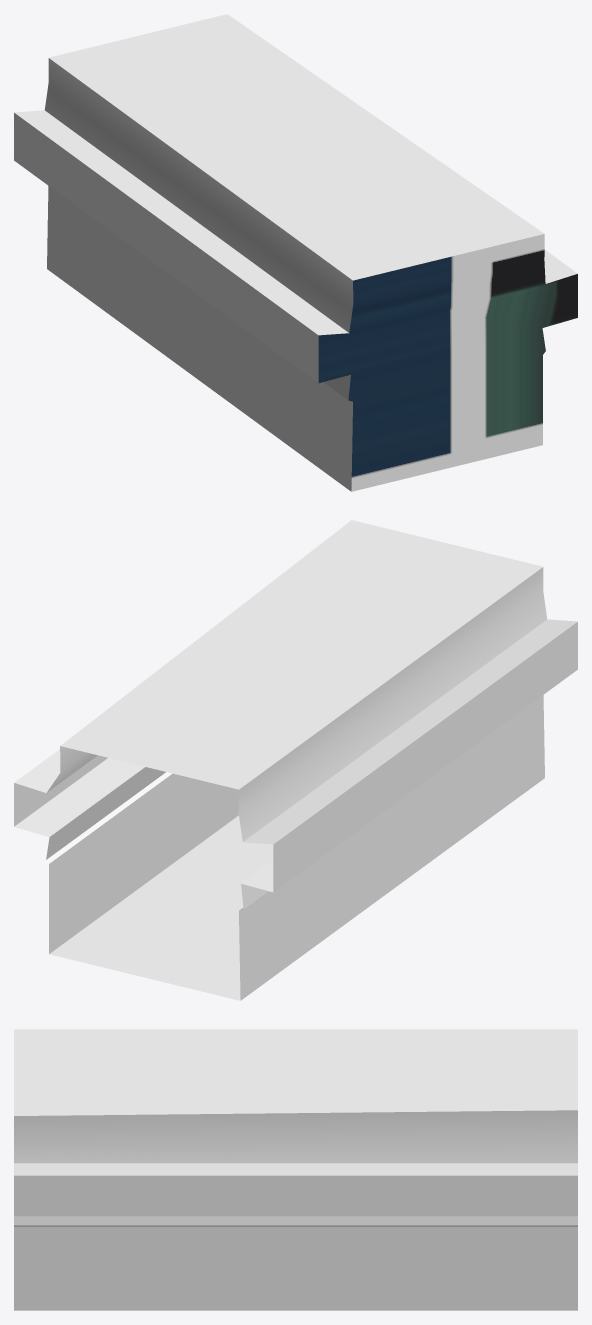
The model's file is Columna_01.fbx.
3 views of the same model, one above another, from view 1: azimuth 30°, elevation 25°; view 2: azimuth 150°, elevation 25°; view 3: azimuth 270°, elevation 25° (orthographic). The views are drawn at different scales.
Parts seen in each view (by area): view 1: Columna_01; view 2: Columna_01; view 3: Columna_01.
Boxes of the visible parts, box(x1,y1,x2,y2) form: Columna_01: box(14, 14, 577, 491); Columna_01: box(14, 520, 577, 1000); Columna_01: box(14, 1029, 577, 1310).
Size of the model in its own units: 2.57 by 2 by 5.23.
